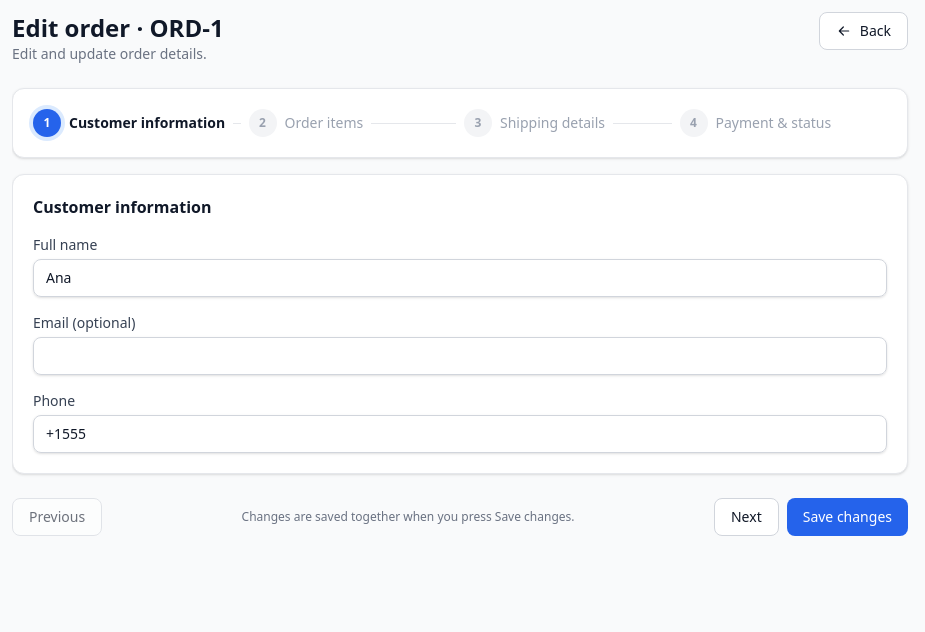
Test case: order edit page › will not let the last item be removed
The width and height of the screenshot is (925, 632).
Expected: the field labelled "Full name" is shown, [33,259,887,297]
What coordinates should you click on to do the following:
click the button "2 Order items"
I would click on:
 (306, 123)
Its box is [248,109,363,137].
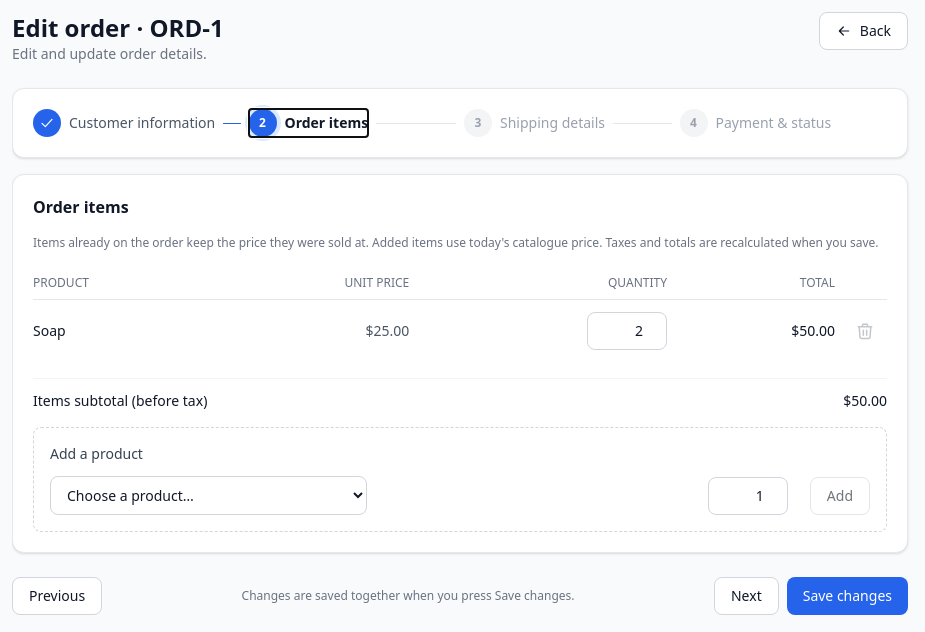
Expected: the button named "remove soap" is disabled, [847,313,883,349]
